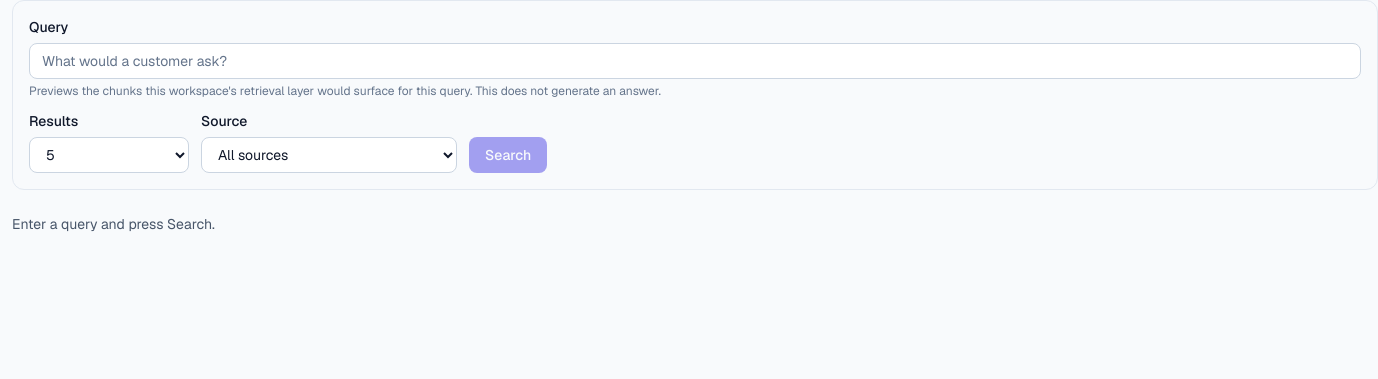
Scenario: KnowledgeSearchPanel › content safety › renders a script-looking chunk as inert text — never executed
The image size is (1378, 379).
Type "refund" into the search field labelled "Query" at (695, 61), box [29,43,1361,79]
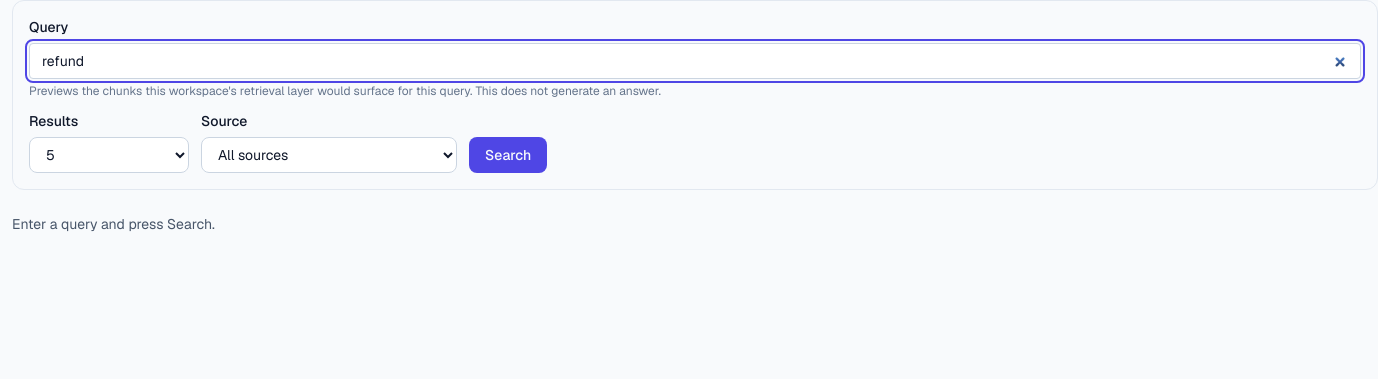
Click the button "Search" at (508, 155), box [469,137,547,173]
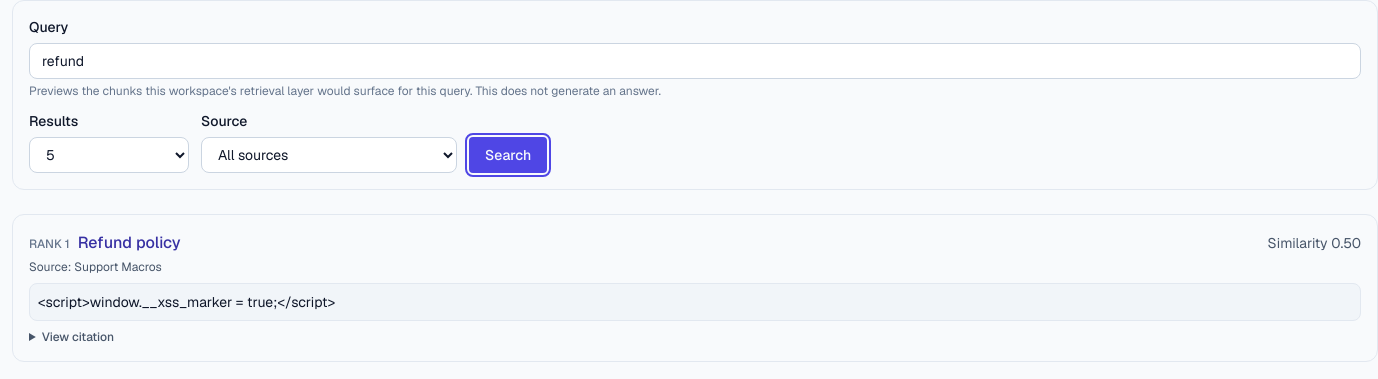
Result: the text "<script>window.__xss_marker = true;</script>" is shown at [29,283,1361,321]
